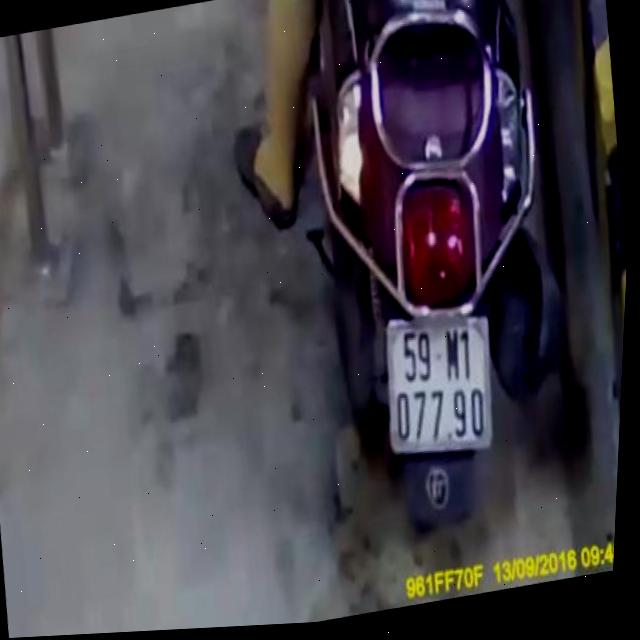motorcycle: (286, 0, 604, 561)
plate: (369, 299, 511, 472)
